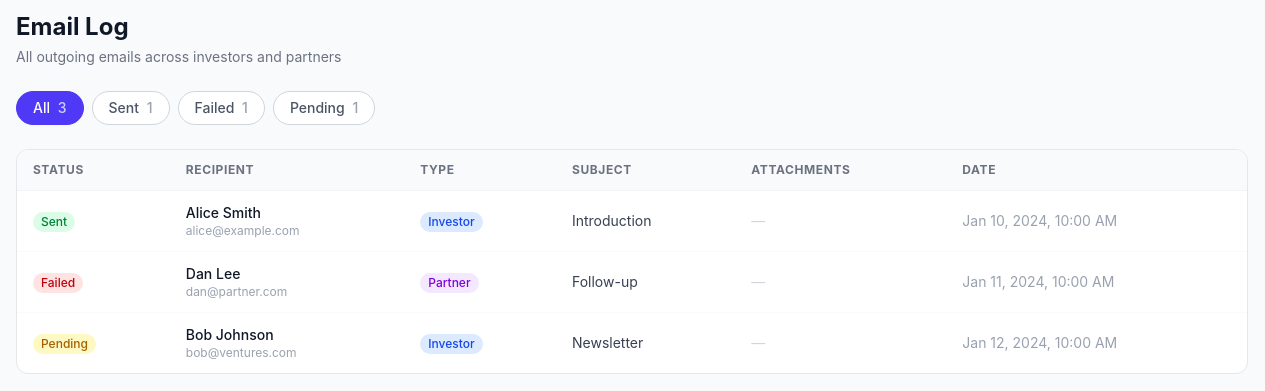
Test: EmailsPage › filters to show only FAILED emails
This screenshot has width=1265, height=391.
Expected: the text "Follow-up" is shown, [572,273,638,290]
Click the button "Failed 1".
click(221, 108)  # box [178,91,265,125]
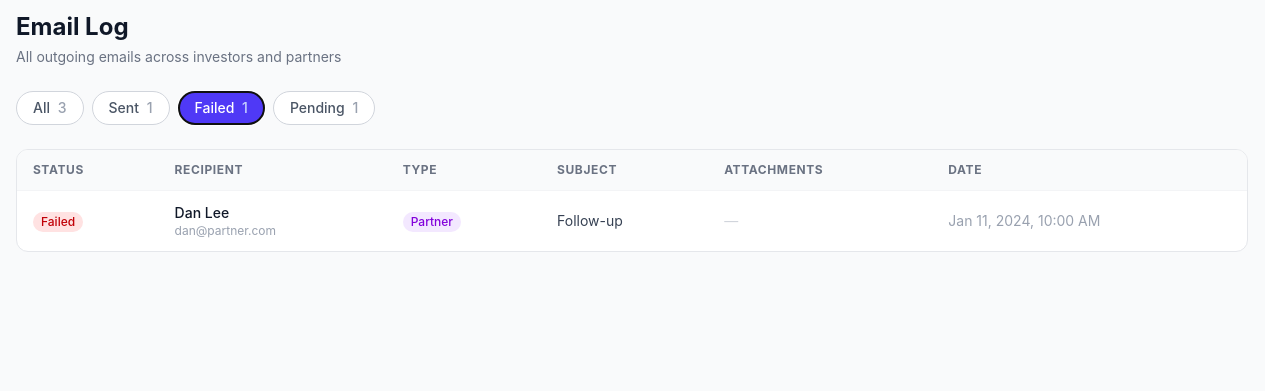
Expected: the text "Follow-up" is shown, [557,212,623,229]
Expected: the text "Introduction" is gone
